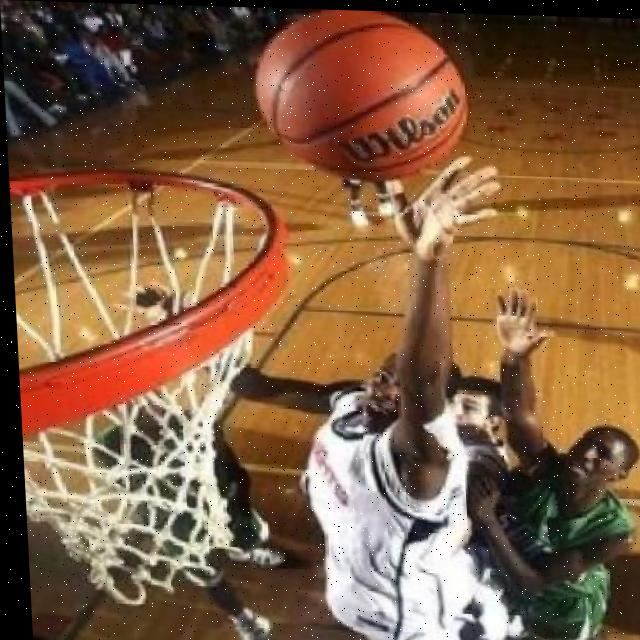basketball: (244, 7, 476, 186)
hoop: (8, 159, 313, 613)
